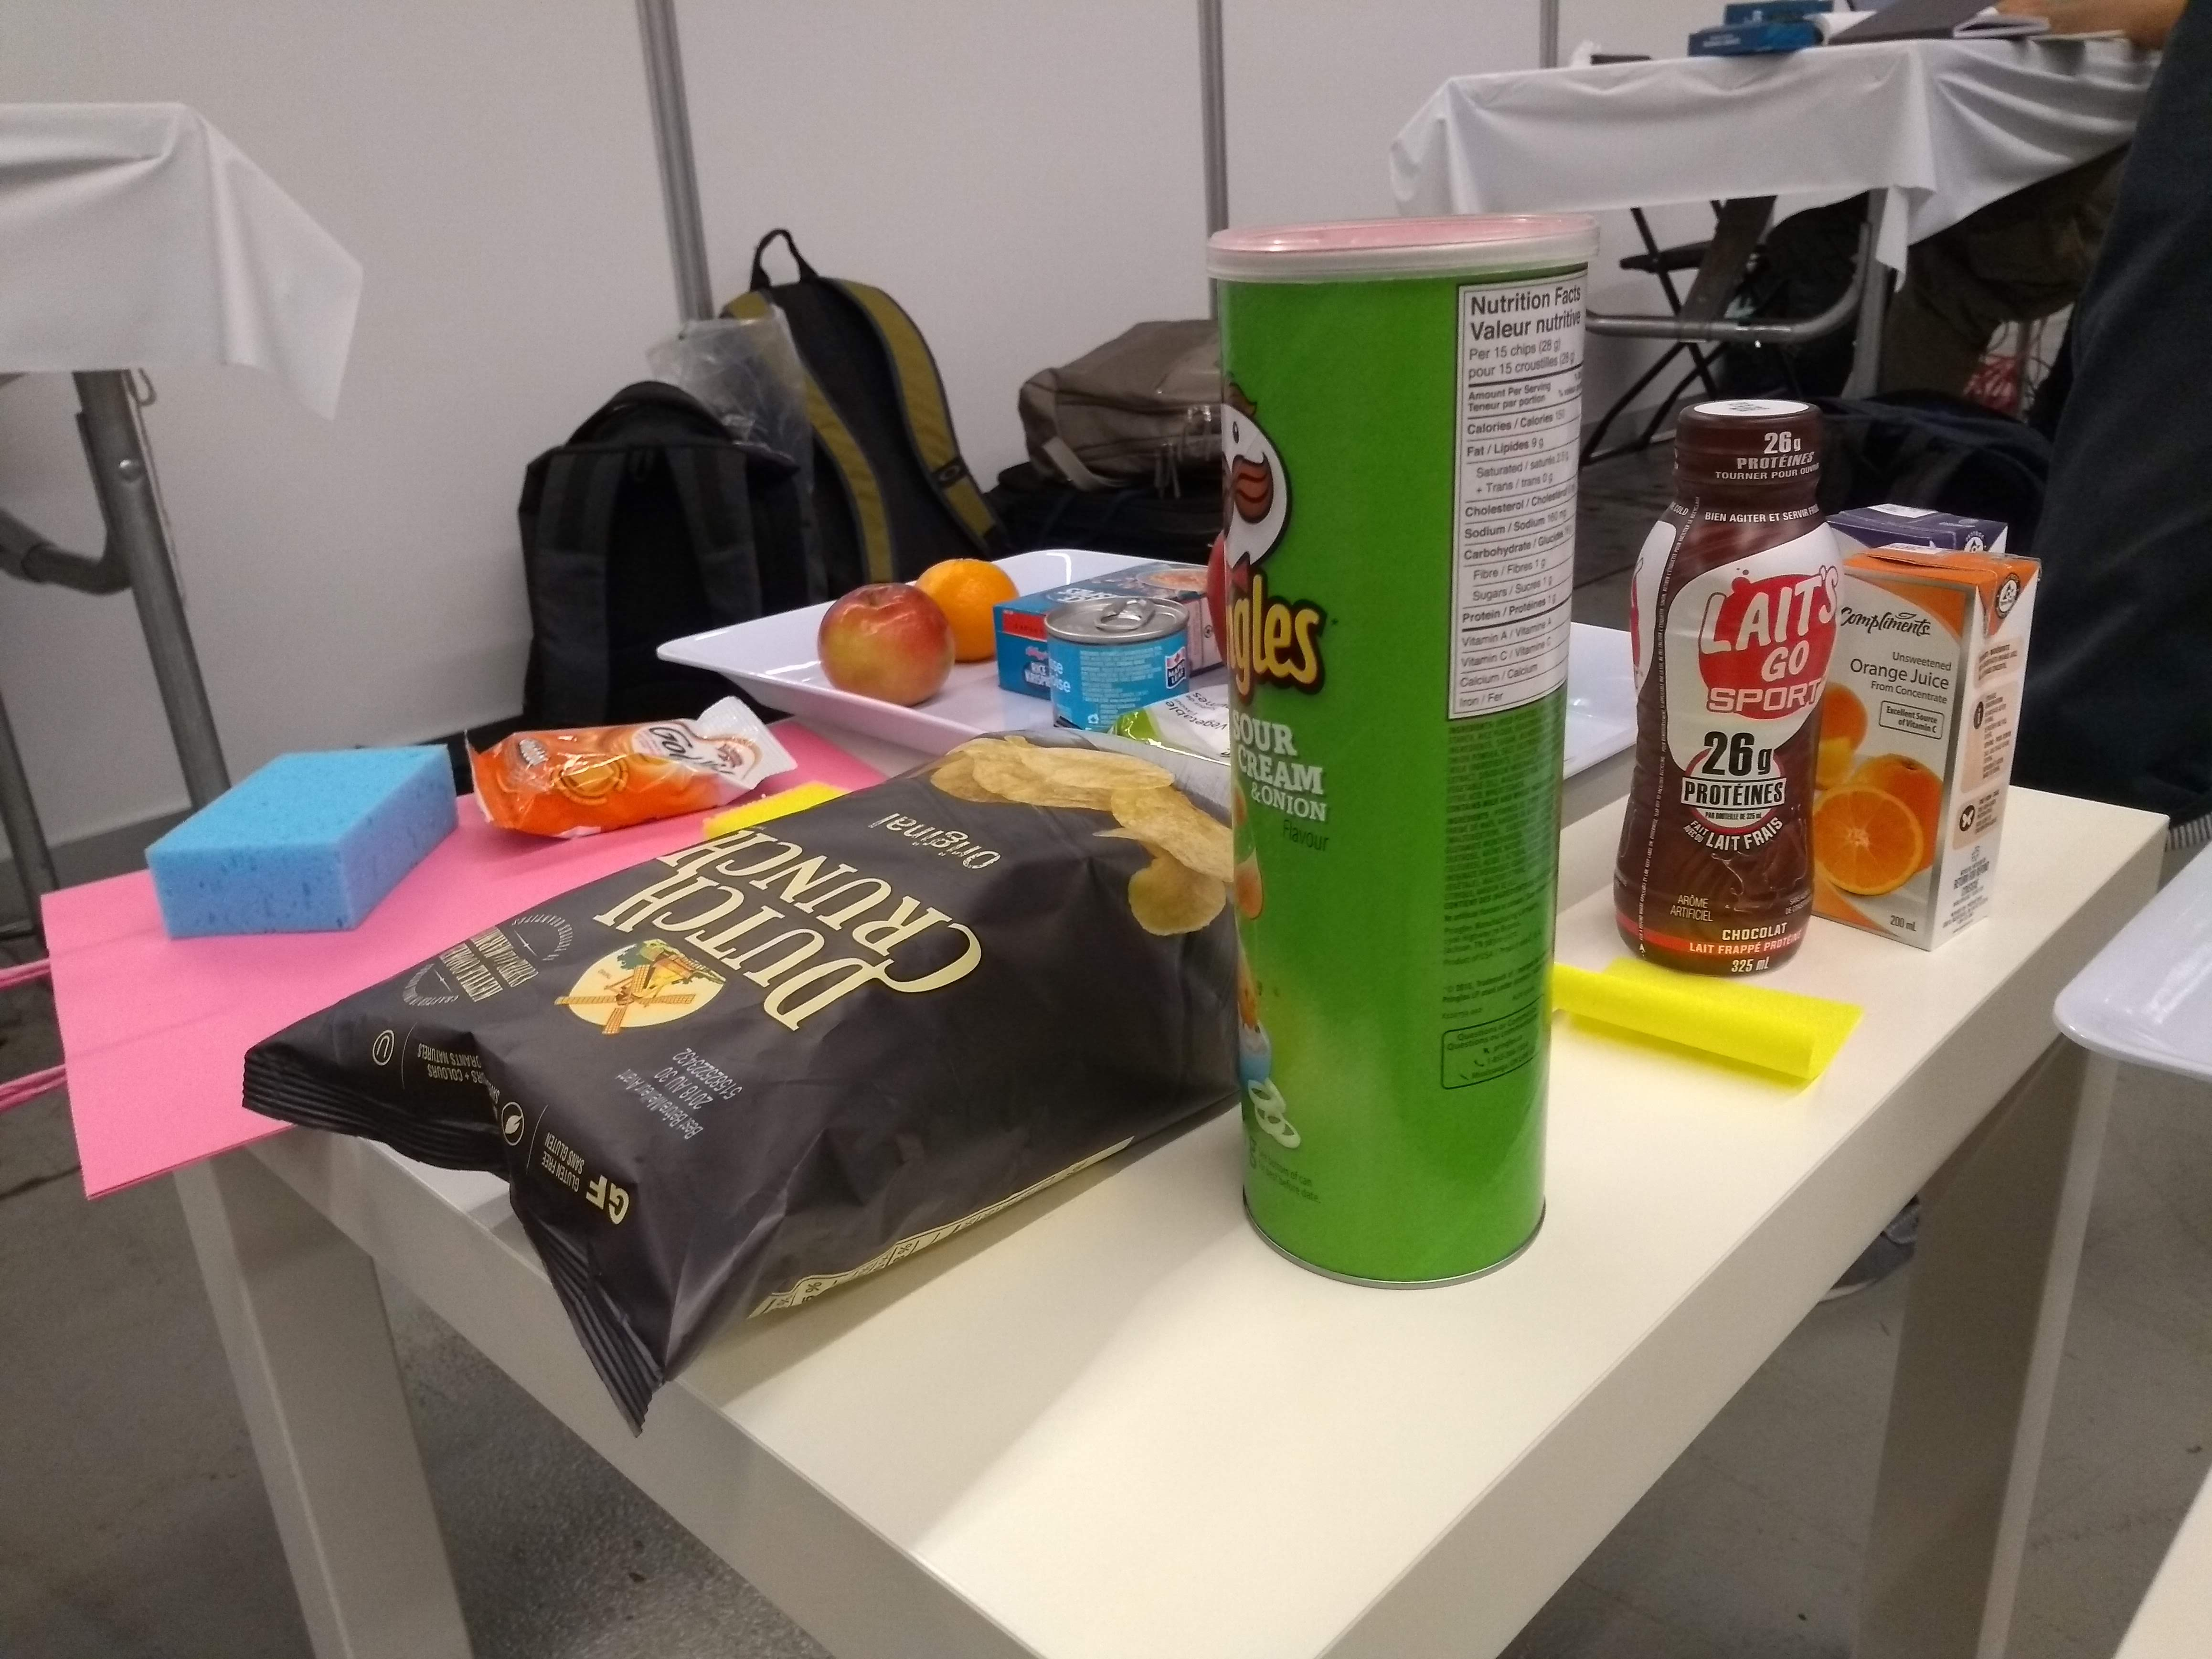chocolate_drink: (1602, 392, 1844, 981)
crackers: (460, 697, 805, 843)
potato_chips: (235, 720, 1280, 1448)
pringles: (1191, 193, 1602, 1300), (815, 575, 958, 711)
sponge_opl: (141, 730, 465, 948)
